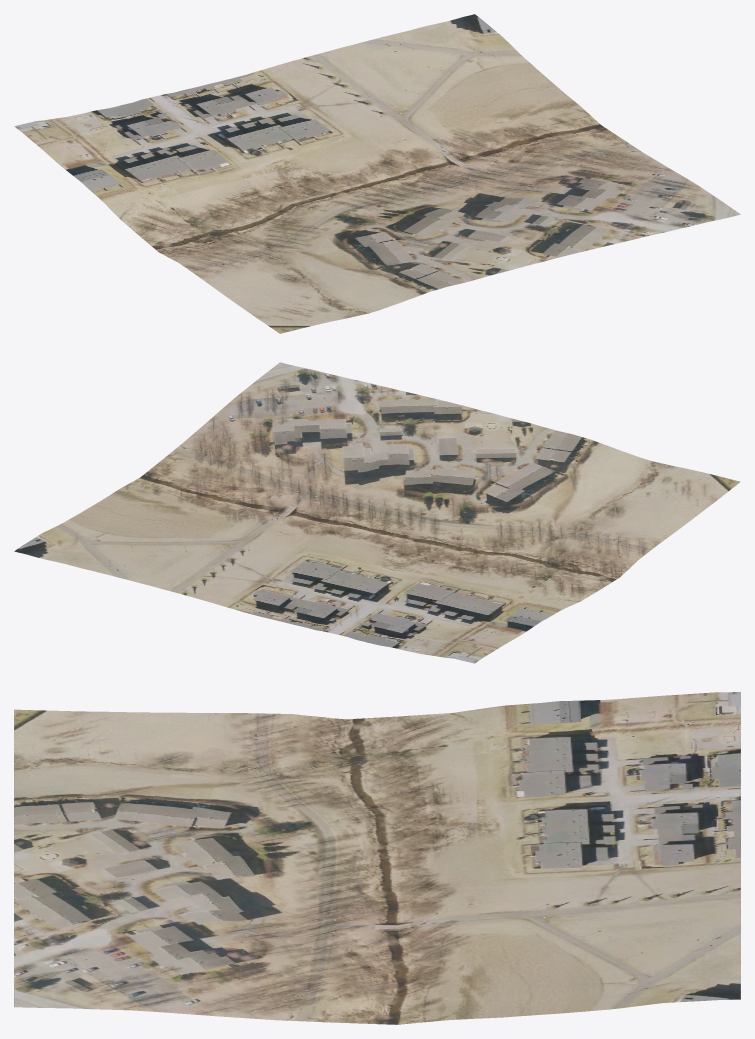
The model's file is CM_Terrain_24490458_6818360.fbx.
The picture shows the model from 3 angles, top to bottom: view 1: azimuth 30°, elevation 25°; view 2: azimuth 150°, elevation 25°; view 3: azimuth 270°, elevation 25°; orthographic projection. The views are drawn at different scales.
Visible parts, largest first — view 1: CM_Terrain_24490458_6818360_LOD0; view 2: CM_Terrain_24490458_6818360_LOD0; view 3: CM_Terrain_24490458_6818360_LOD0.
Part boxes in pixels (x1=…): CM_Terrain_24490458_6818360_LOD0: x1=14, y1=14, x2=740, y2=333; CM_Terrain_24490458_6818360_LOD0: x1=14, y1=362, x2=740, y2=663; CM_Terrain_24490458_6818360_LOD0: x1=14, y1=692, x2=740, y2=1024.
Size of what is drawn, in the model's own units: 205 by 8.73 by 205.
